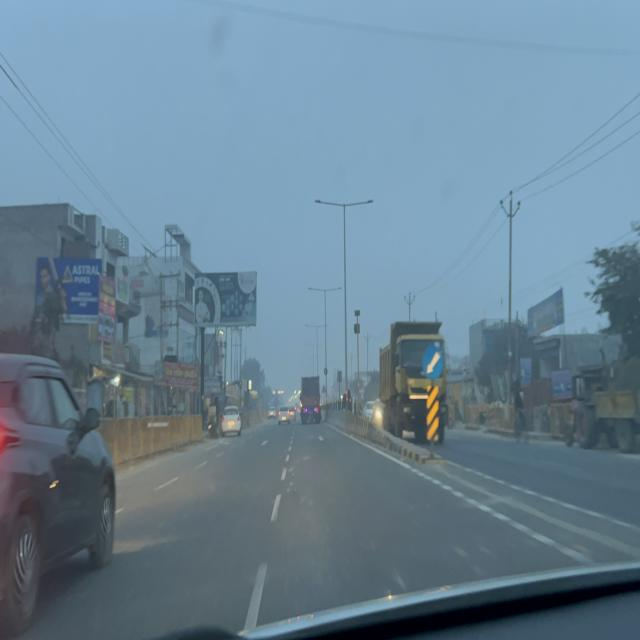KEEP_LEFT: (422, 345, 443, 380)
